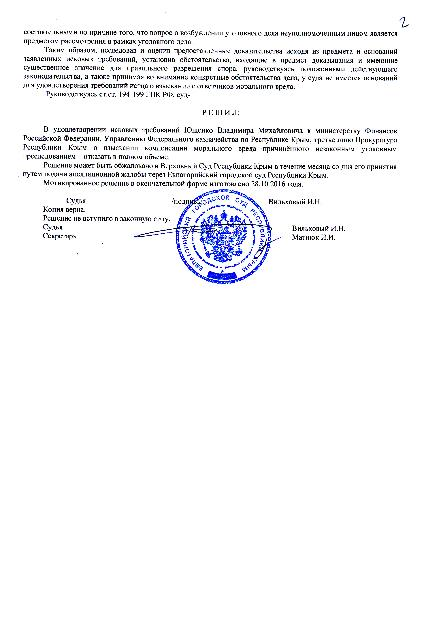stamp: (176, 190, 272, 286)
